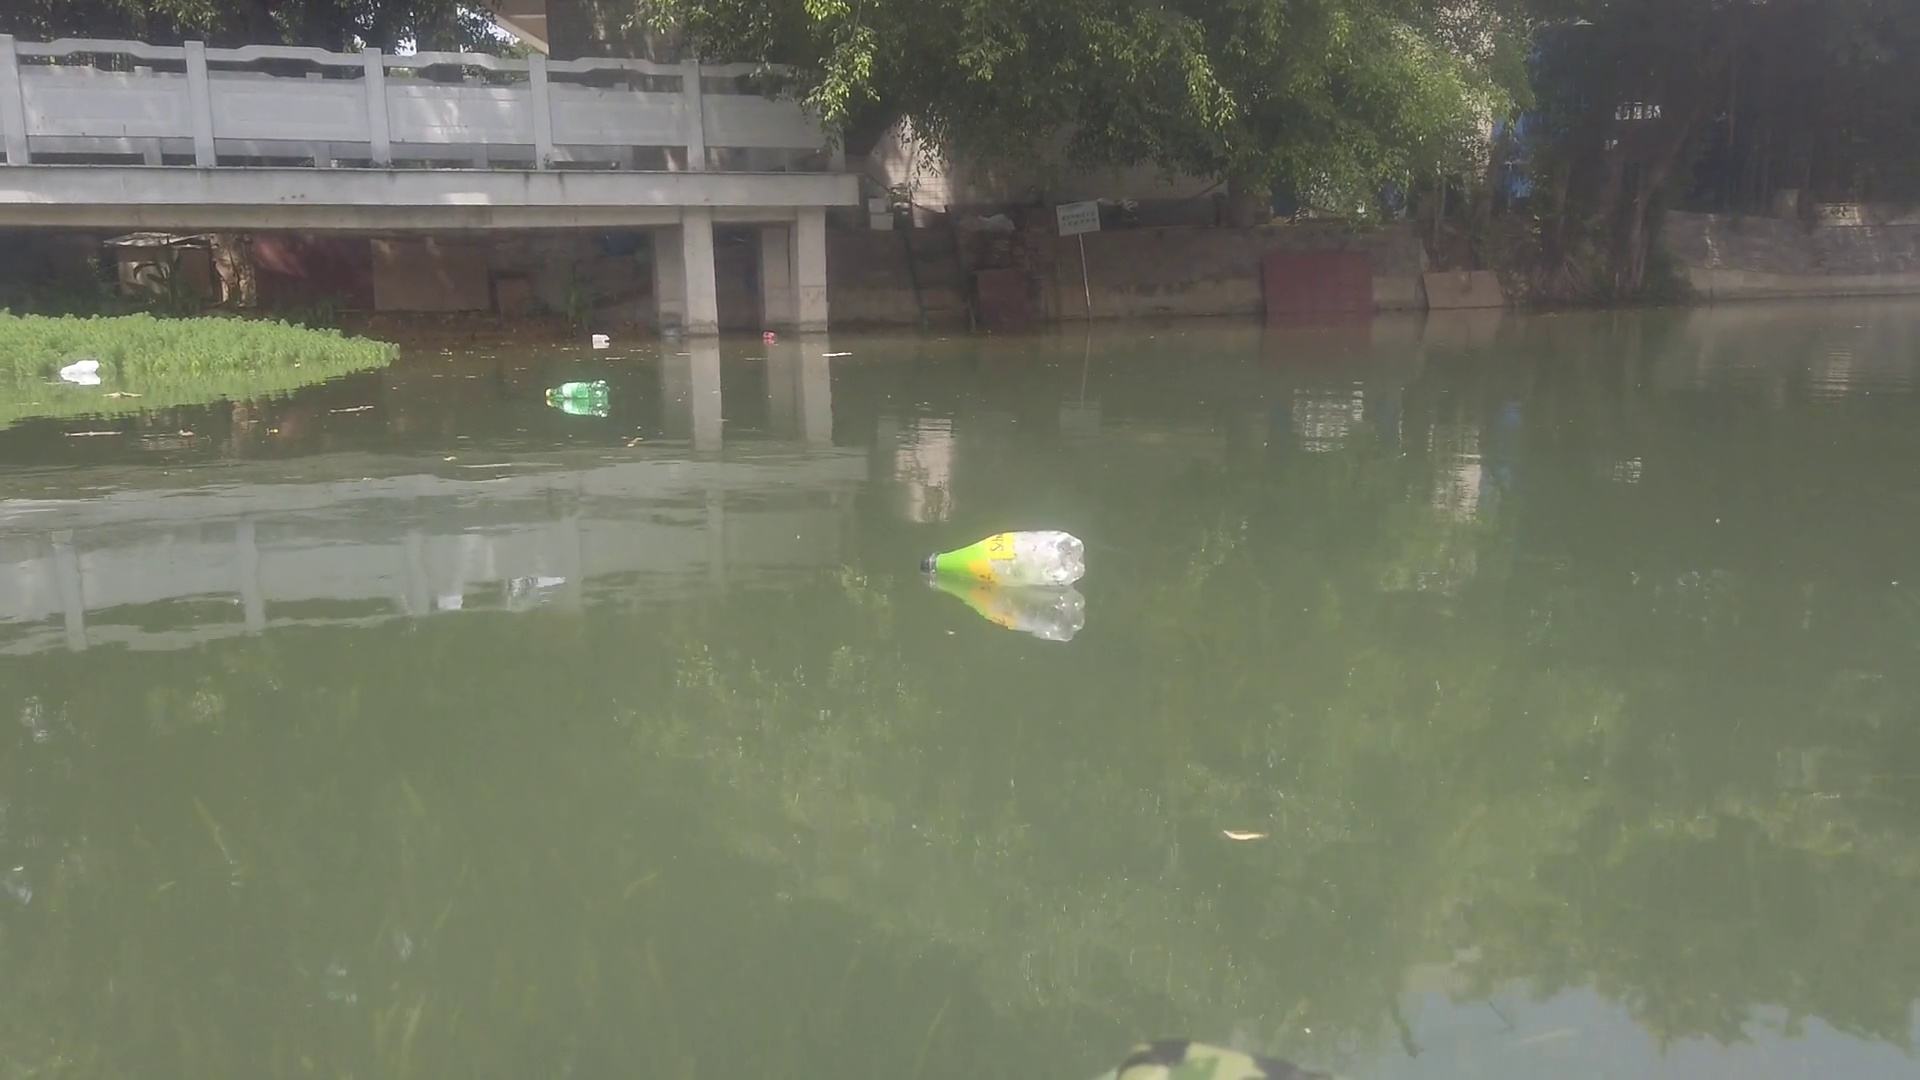bottle: (913, 525, 1095, 589), (542, 378, 609, 401), (756, 328, 779, 344)
carton: (588, 332, 612, 345)
paper: (820, 348, 851, 357)
plastic: (59, 357, 99, 378)
